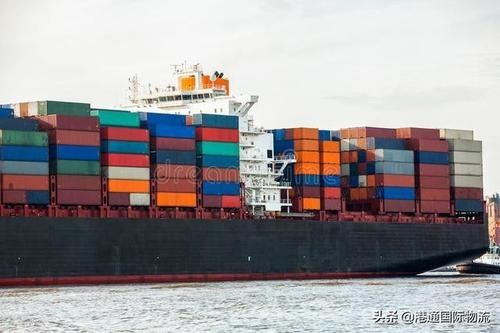Cargoship: (1, 65, 493, 270)
